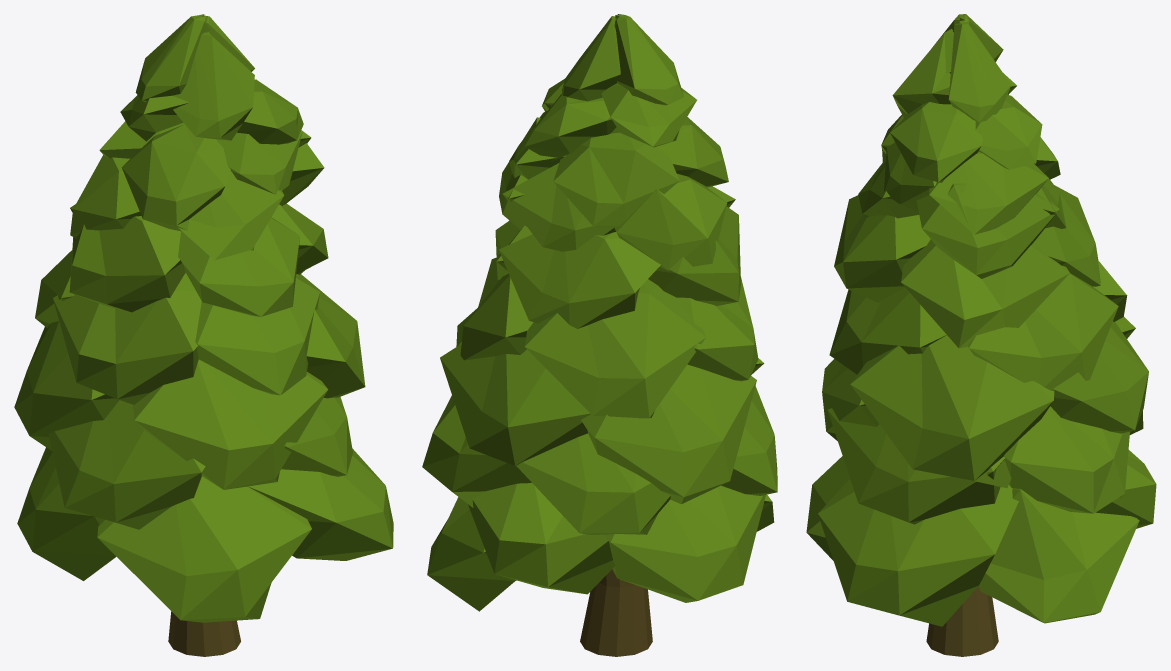
File: Tree 3.fbx
3 renders of one model, left to right at view 1: azimuth 30°, elevation 25°; view 2: azimuth 150°, elevation 25°; view 3: azimuth 270°, elevation 25°, orthographic.
Parts seen in each view (by area): view 1: polySurface24; view 2: polySurface24; view 3: polySurface24.
Boxes of the visible parts, left/top/right/bottom form: polySurface24: left=14, top=14, right=393, bottom=656; polySurface24: left=422, top=14, right=777, bottom=656; polySurface24: left=806, top=14, right=1156, bottom=656.
Size of the model in its own units: 6.54 by 12.72 by 6.49.
